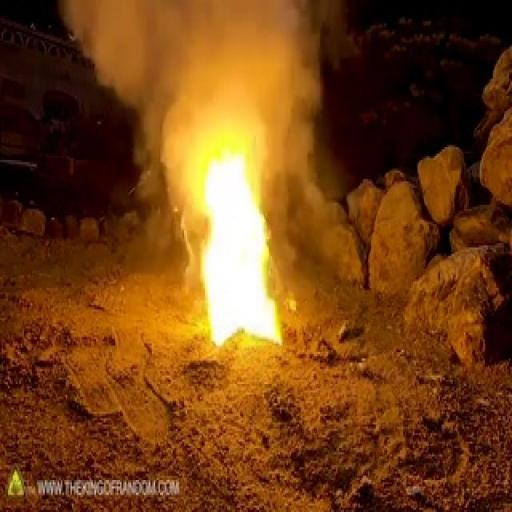smoke: (211, 188, 317, 330)
